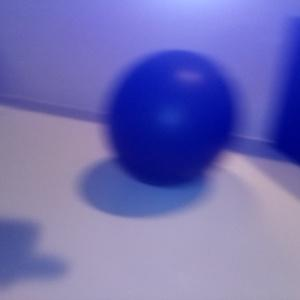dead_ball: (108, 51, 236, 185)
